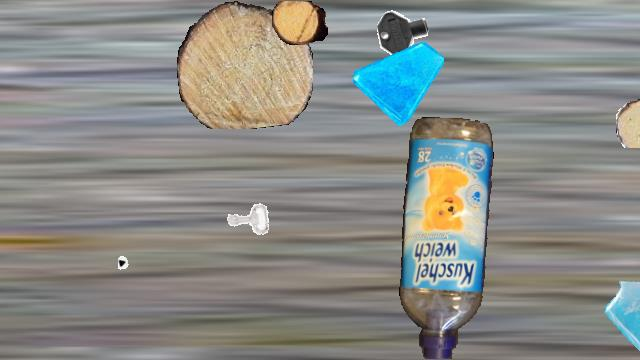glass: (353, 35, 443, 125), (603, 273, 640, 359)
metal: (118, 238, 180, 300), (373, 1, 435, 63), (221, 193, 273, 245)
plastic: (398, 117, 496, 359)
wood: (177, 1, 313, 129), (272, 1, 328, 45), (616, 98, 640, 148)
